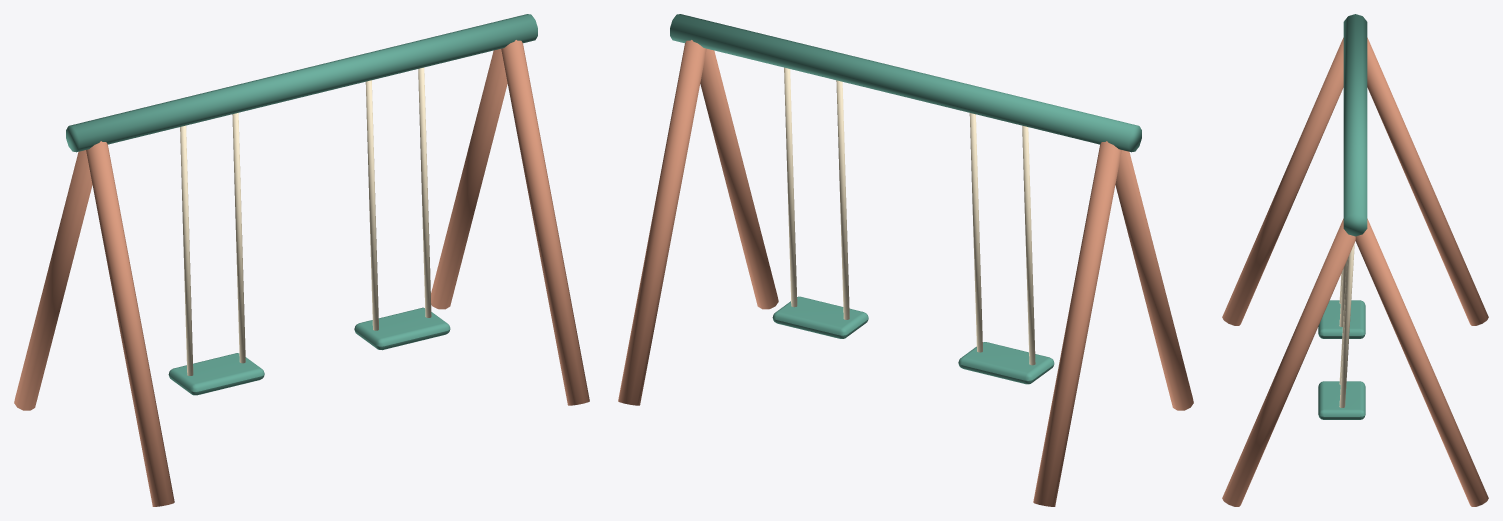
File: Playground_swing.fbx
3 renders of one model, left to right at view 1: azimuth 30°, elevation 25°; view 2: azimuth 150°, elevation 25°; view 3: azimuth 270°, elevation 25°, orthographic. The views are drawn at different scales.
Visible parts, largest first — view 1: Town_Playground_swing Swing crossbar.001, Town_Playground_swing Swing A frame.006, Town_Playground_swing Swing A frame.004, Town_Playground_swing Swing A frame.005, Town_Playground_swing Swing A frame.007, Town_Playground_swing Swing seat.002, Town_Playground_swing Swing seat.003, Town_Playground_swing Swing rope.005, Town_Playground_swing Swing rope.004, Town_Playground_swing Swing rope.007, Town_Playground_swing Swing rope.006; view 2: Town_Playground_swing Swing crossbar.001, Town_Playground_swing Swing A frame.007, Town_Playground_swing Swing A frame.005, Town_Playground_swing Swing A frame.004, Town_Playground_swing Swing A frame.006, Town_Playground_swing Swing seat.003, Town_Playground_swing Swing seat.002, Town_Playground_swing Swing rope.004, Town_Playground_swing Swing rope.006, Town_Playground_swing Swing rope.007, Town_Playground_swing Swing rope.005; view 3: Town_Playground_swing Swing A frame.006, Town_Playground_swing Swing A frame.007, Town_Playground_swing Swing A frame.004, Town_Playground_swing Swing A frame.005, Town_Playground_swing Swing crossbar.001, Town_Playground_swing Swing seat.003, Town_Playground_swing Swing seat.002, Town_Playground_swing Swing rope.007.
Part boxes in pixels (x1=…): Town_Playground_swing Swing crossbar.001: x1=66, y1=14, x2=537, y2=152; Town_Playground_swing Swing A frame.006: x1=501, y1=40, x2=589, y2=405; Town_Playground_swing Swing A frame.004: x1=86, y1=141, x2=174, y2=506; Town_Playground_swing Swing A frame.005: x1=14, y1=150, x2=92, y2=410; Town_Playground_swing Swing A frame.007: x1=431, y1=49, x2=507, y2=309; Town_Playground_swing Swing seat.002: x1=168, y1=353, x2=264, y2=395; Town_Playground_swing Swing seat.003: x1=354, y1=307, x2=450, y2=350; Town_Playground_swing Swing rope.005: x1=232, y1=113, x2=245, y2=363; Town_Playground_swing Swing rope.004: x1=180, y1=125, x2=193, y2=375; Town_Playground_swing Swing rope.007: x1=418, y1=67, x2=431, y2=317; Town_Playground_swing Swing rope.006: x1=365, y1=80, x2=378, y2=330; Town_Playground_swing Swing crossbar.001: x1=670, y1=14, x2=1141, y2=152; Town_Playground_swing Swing A frame.007: x1=618, y1=40, x2=706, y2=405; Town_Playground_swing Swing A frame.005: x1=1033, y1=141, x2=1121, y2=506; Town_Playground_swing Swing A frame.004: x1=1115, y1=150, x2=1193, y2=410; Town_Playground_swing Swing A frame.006: x1=700, y1=49, x2=778, y2=309; Town_Playground_swing Swing seat.003: x1=772, y1=296, x2=868, y2=338; Town_Playground_swing Swing seat.002: x1=958, y1=342, x2=1054, y2=384; Town_Playground_swing Swing rope.004: x1=1022, y1=125, x2=1035, y2=365; Town_Playground_swing Swing rope.006: x1=836, y1=80, x2=849, y2=319; Town_Playground_swing Swing rope.007: x1=784, y1=67, x2=797, y2=307; Town_Playground_swing Swing rope.005: x1=969, y1=113, x2=982, y2=352; Town_Playground_swing Swing A frame.006: x1=1222, y1=218, x2=1355, y2=506; Town_Playground_swing Swing A frame.007: x1=1355, y1=218, x2=1488, y2=506; Town_Playground_swing Swing A frame.004: x1=1222, y1=37, x2=1343, y2=325; Town_Playground_swing Swing A frame.005: x1=1367, y1=37, x2=1488, y2=325; Town_Playground_swing Swing crossbar.001: x1=1343, y1=14, x2=1367, y2=236; Town_Playground_swing Swing seat.003: x1=1318, y1=381, x2=1365, y2=419; Town_Playground_swing Swing seat.002: x1=1318, y1=300, x2=1365, y2=338; Town_Playground_swing Swing rope.007: x1=1339, y1=242, x2=1354, y2=407.
Bounding box in the file's own units: 420 × 294 × 237.
